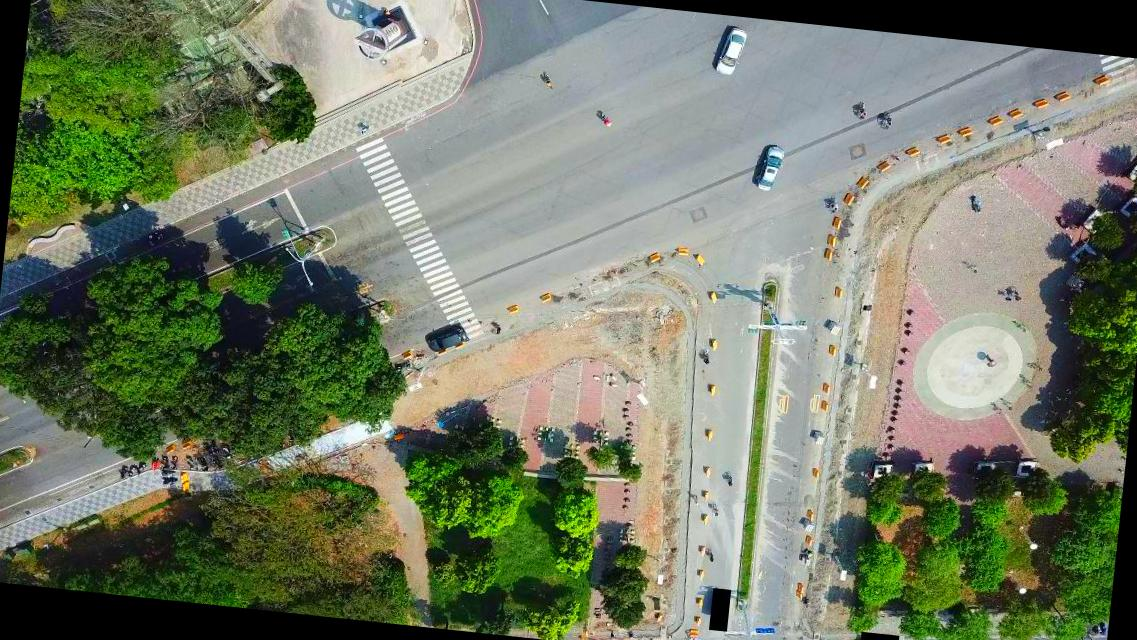vehicle: (712, 25, 747, 76), (754, 142, 786, 192), (424, 320, 468, 354)
